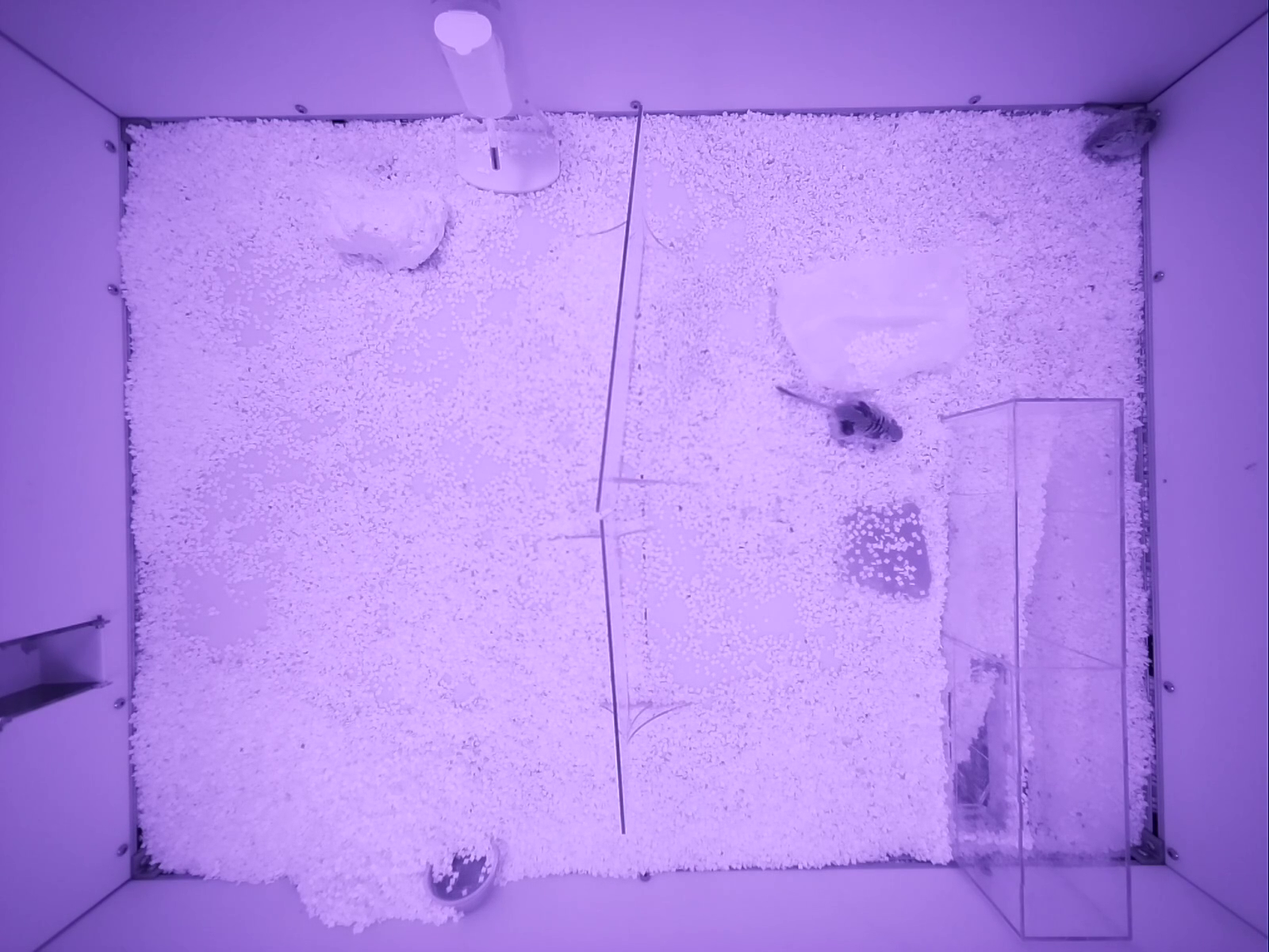adult_back: (777, 385, 901, 442), (1083, 102, 1160, 163)
